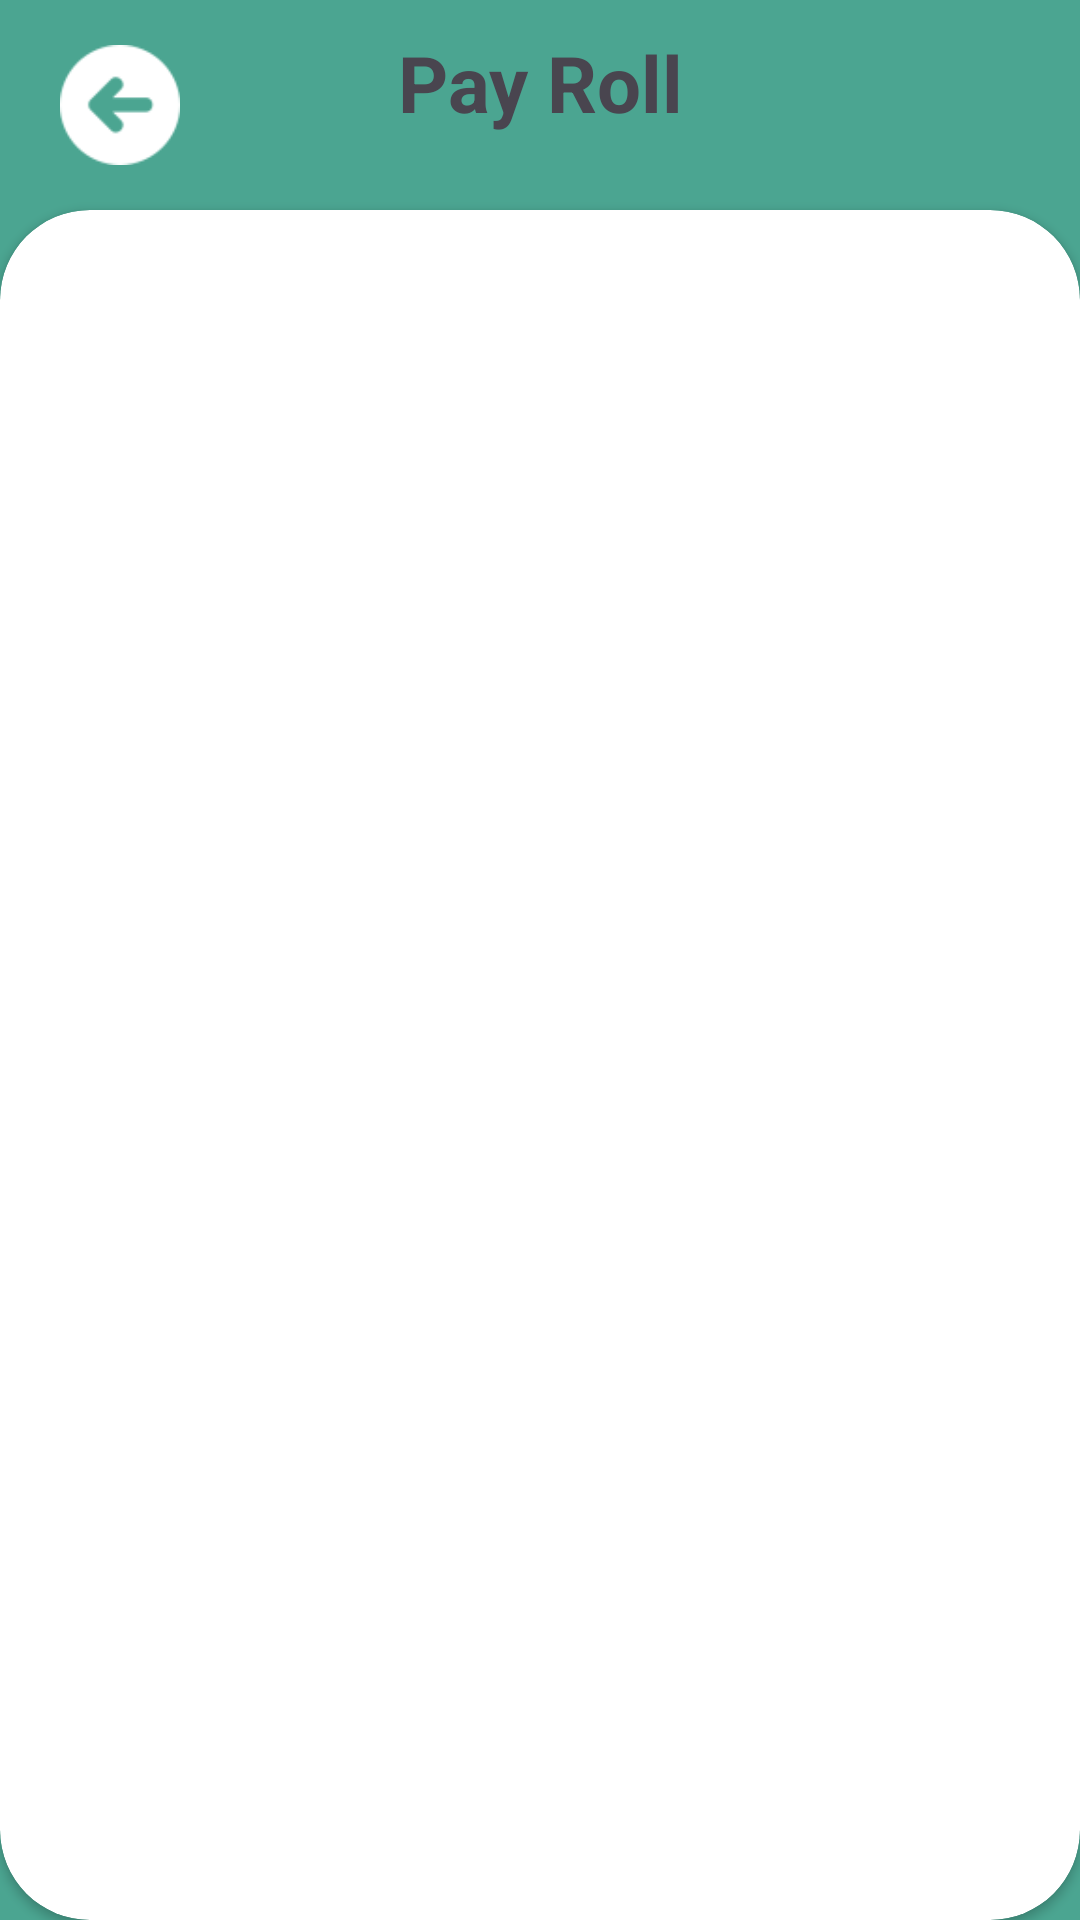

Where to tap for icons on this 1080 × 1920 app screen, as [x,y]:
previous: [120,105]
